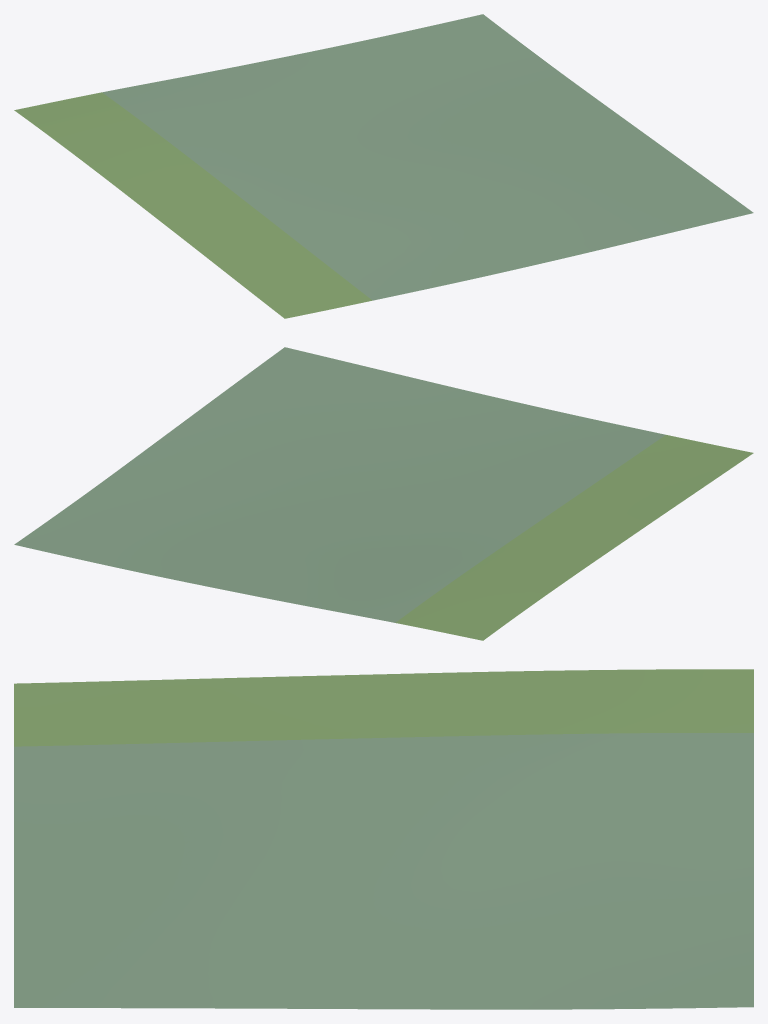
File: floor_001_chunk_x+02_z+12_lod1.glb
3 views of the same model, one above another, from view 1: azimuth 30°, elevation 25°; view 2: azimuth 150°, elevation 25°; view 3: azimuth 270°, elevation 25° (orthographic). The views are drawn at different scales.
Parts seen in each view (by area): view 1: floor_001_chunk_x+02_z+12_lod1; view 2: floor_001_chunk_x+02_z+12_lod1; view 3: floor_001_chunk_x+02_z+12_lod1.
Boxes of the visible parts, x1,y1,x2,y2 form: floor_001_chunk_x+02_z+12_lod1: (14, 14, 753, 318); floor_001_chunk_x+02_z+12_lod1: (14, 347, 753, 640); floor_001_chunk_x+02_z+12_lod1: (14, 669, 753, 1009).
Size of the model in its own units: 256 by 10.55 by 256.
